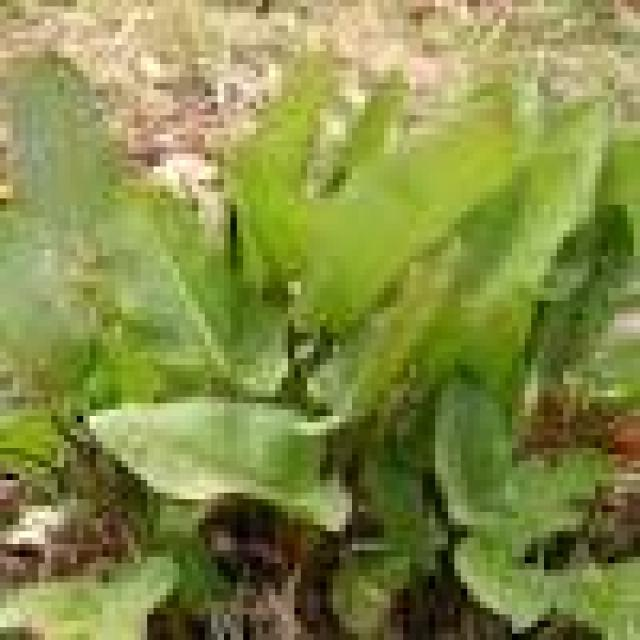organic waste: (13, 96, 640, 627)
